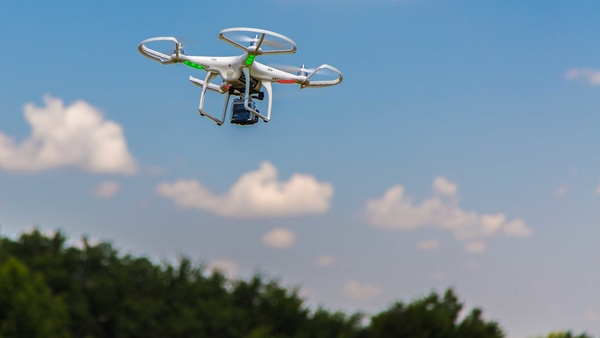drone: (136, 26, 345, 128)
